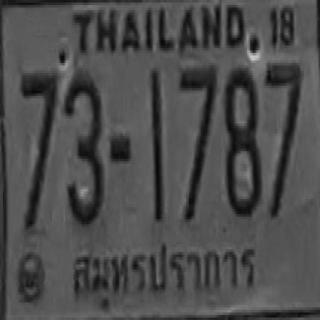N01: (149, 69, 162, 221)
N03: (63, 72, 102, 223)
N07: (19, 71, 57, 227), (263, 60, 301, 214), (178, 65, 215, 219), (19, 71, 57, 179)
N08: (223, 65, 259, 214)
P57: (69, 236, 259, 298)
